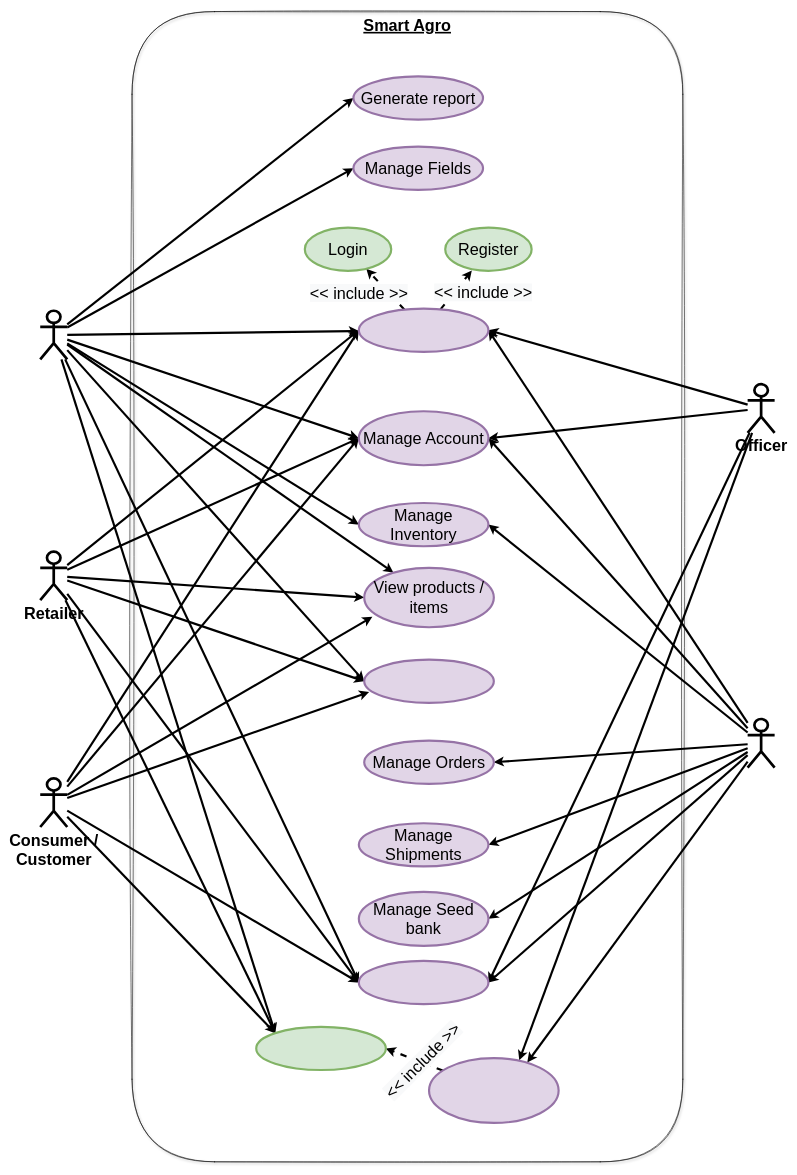
The diagram is 797 pixels wide and 1175 high, and some of its shapes have lost their labels. The centre of each missing label's shape, as x and y in pixels:
Admin: the point at 761,743
Authentication: the point at 423,330
Browse articles: the point at 321,1048
Chat: the point at 423,982
Farmer: the point at 53,334
Manage Cart: the point at 429,681
Manage Knowledge center: the point at 493,1090
